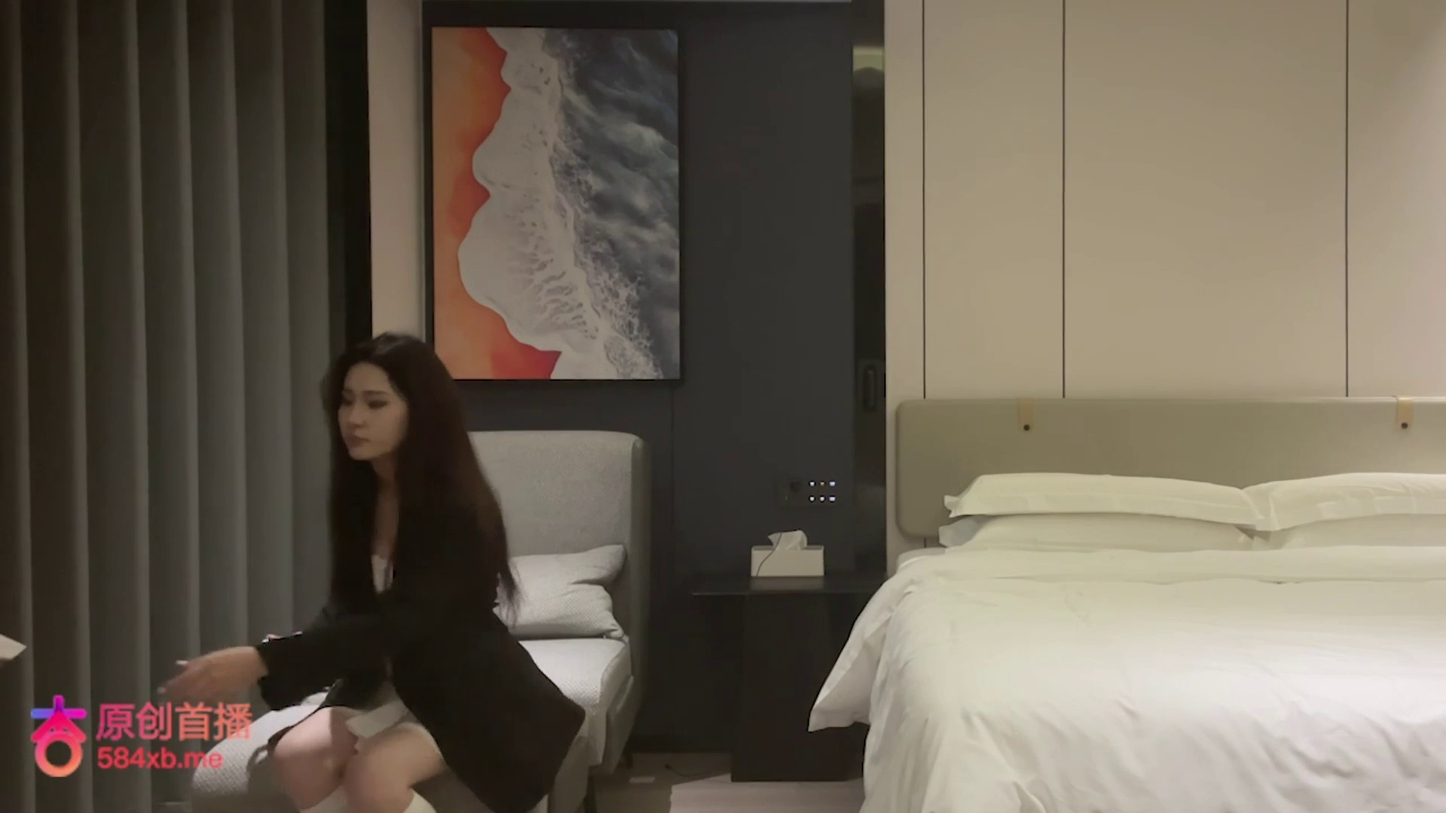sit: (160, 331, 588, 811)
